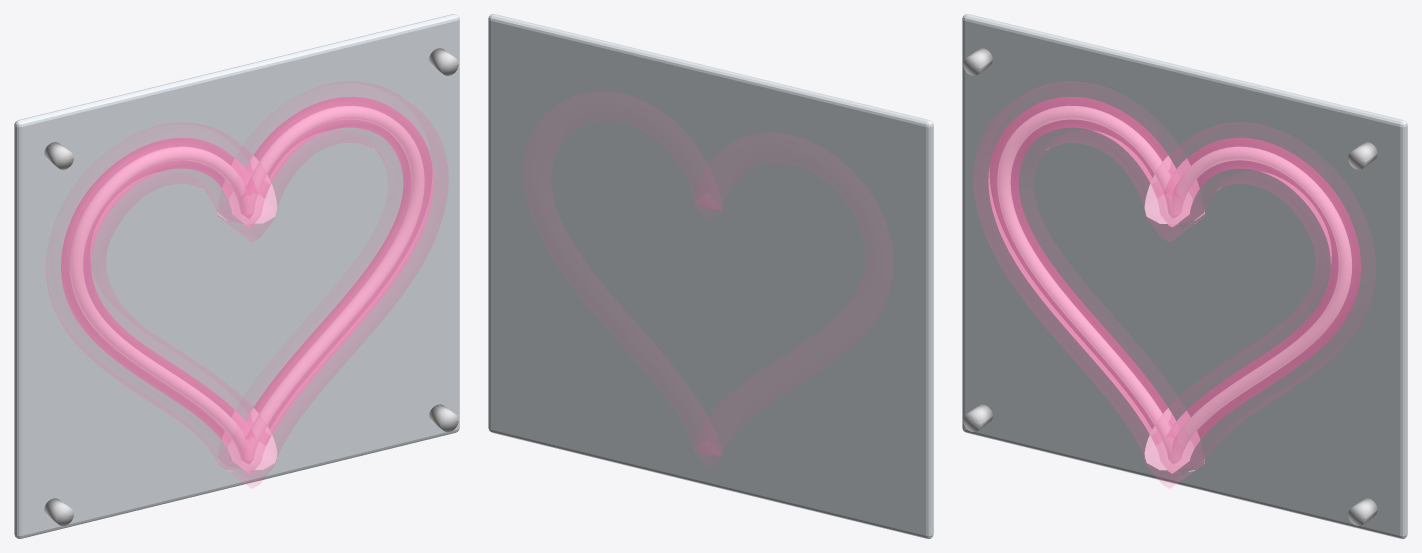
Rendered from fx3d-neon-heart.glb.
3 renders of one model, left to right at view 1: azimuth 30°, elevation 25°; view 2: azimuth 150°, elevation 25°; view 3: azimuth 330°, elevation 25°, orthographic.
Visible parts, largest first — view 1: plate, heart-glow0, heart-glow1, heart-core, plateSt, plateSt.001, plateSt.002, plateSt.003; view 2: plate, heart-glow1; view 3: plate, heart-glow0, heart-glow1, heart-core, plateSt, plateSt.001, plateSt.002, plateSt.003.
Boxes of the visible parts, <box> form: plate: <box>14,14,459,538</box>; heart-glow0: <box>61,96,433,473</box>; heart-glow1: <box>46,81,448,488</box>; heart-core: <box>70,105,424,464</box>; plateSt: <box>44,498,73,525</box>; plateSt.001: <box>44,142,73,169</box>; plateSt.002: <box>429,404,458,432</box>; plateSt.003: <box>429,48,458,75</box>; plate: <box>488,14,933,538</box>; heart-glow1: <box>694,165,722,457</box>; plate: <box>962,14,1407,538</box>; heart-glow0: <box>988,96,1360,473</box>; heart-glow1: <box>973,81,1375,488</box>; heart-core: <box>997,106,1351,464</box>; plateSt: <box>963,404,992,432</box>; plateSt.001: <box>963,48,992,75</box>; plateSt.002: <box>1348,498,1377,525</box>; plateSt.003: <box>1348,142,1377,169</box>.
Size of the model in its own units: 0.3 by 0.27 by 0.0362.
